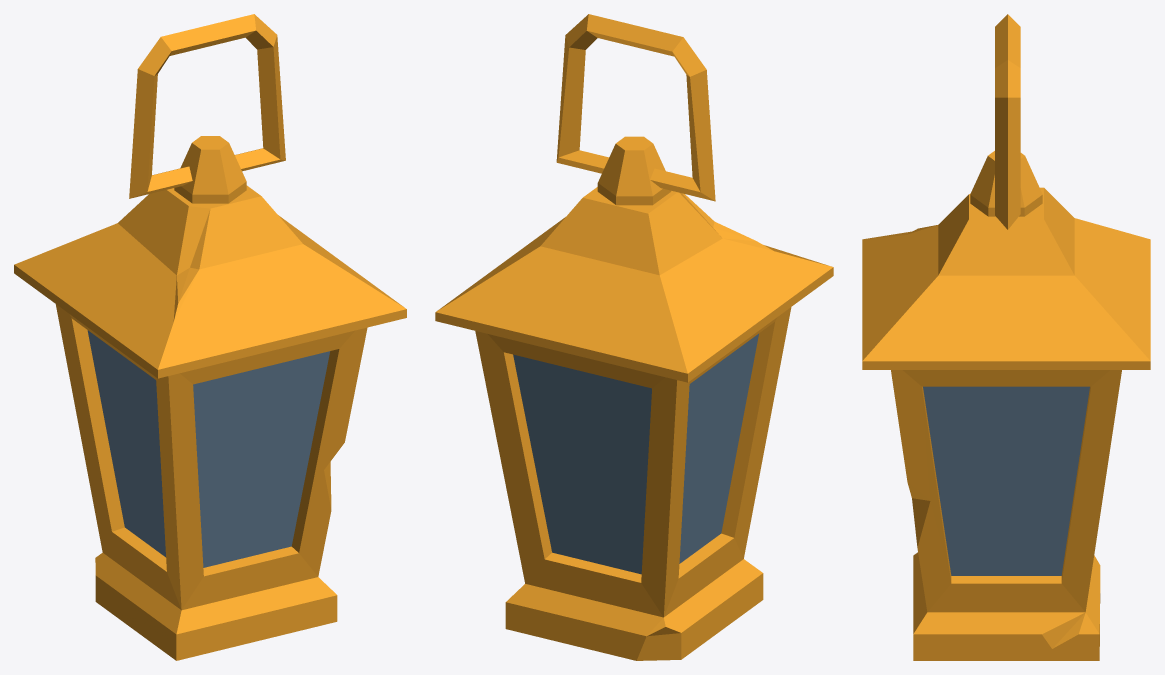
File: SM_Lantern_A_Fantasy.fbx
3 views of the same model, side by side, from view 1: azimuth 30°, elevation 25°; view 2: azimuth 150°, elevation 25°; view 3: azimuth 270°, elevation 25° (orthographic).
Visible parts, largest first — view 1: lantern-a-fantasy; view 2: lantern-a-fantasy; view 3: lantern-a-fantasy.
Boxes of the visible parts, bbox=[...] form: lantern-a-fantasy: bbox=[14, 14, 406, 660]; lantern-a-fantasy: bbox=[435, 14, 833, 660]; lantern-a-fantasy: bbox=[862, 14, 1150, 660].
Size of the model in its own units: 0.2475 by 0.553 by 0.2475.
